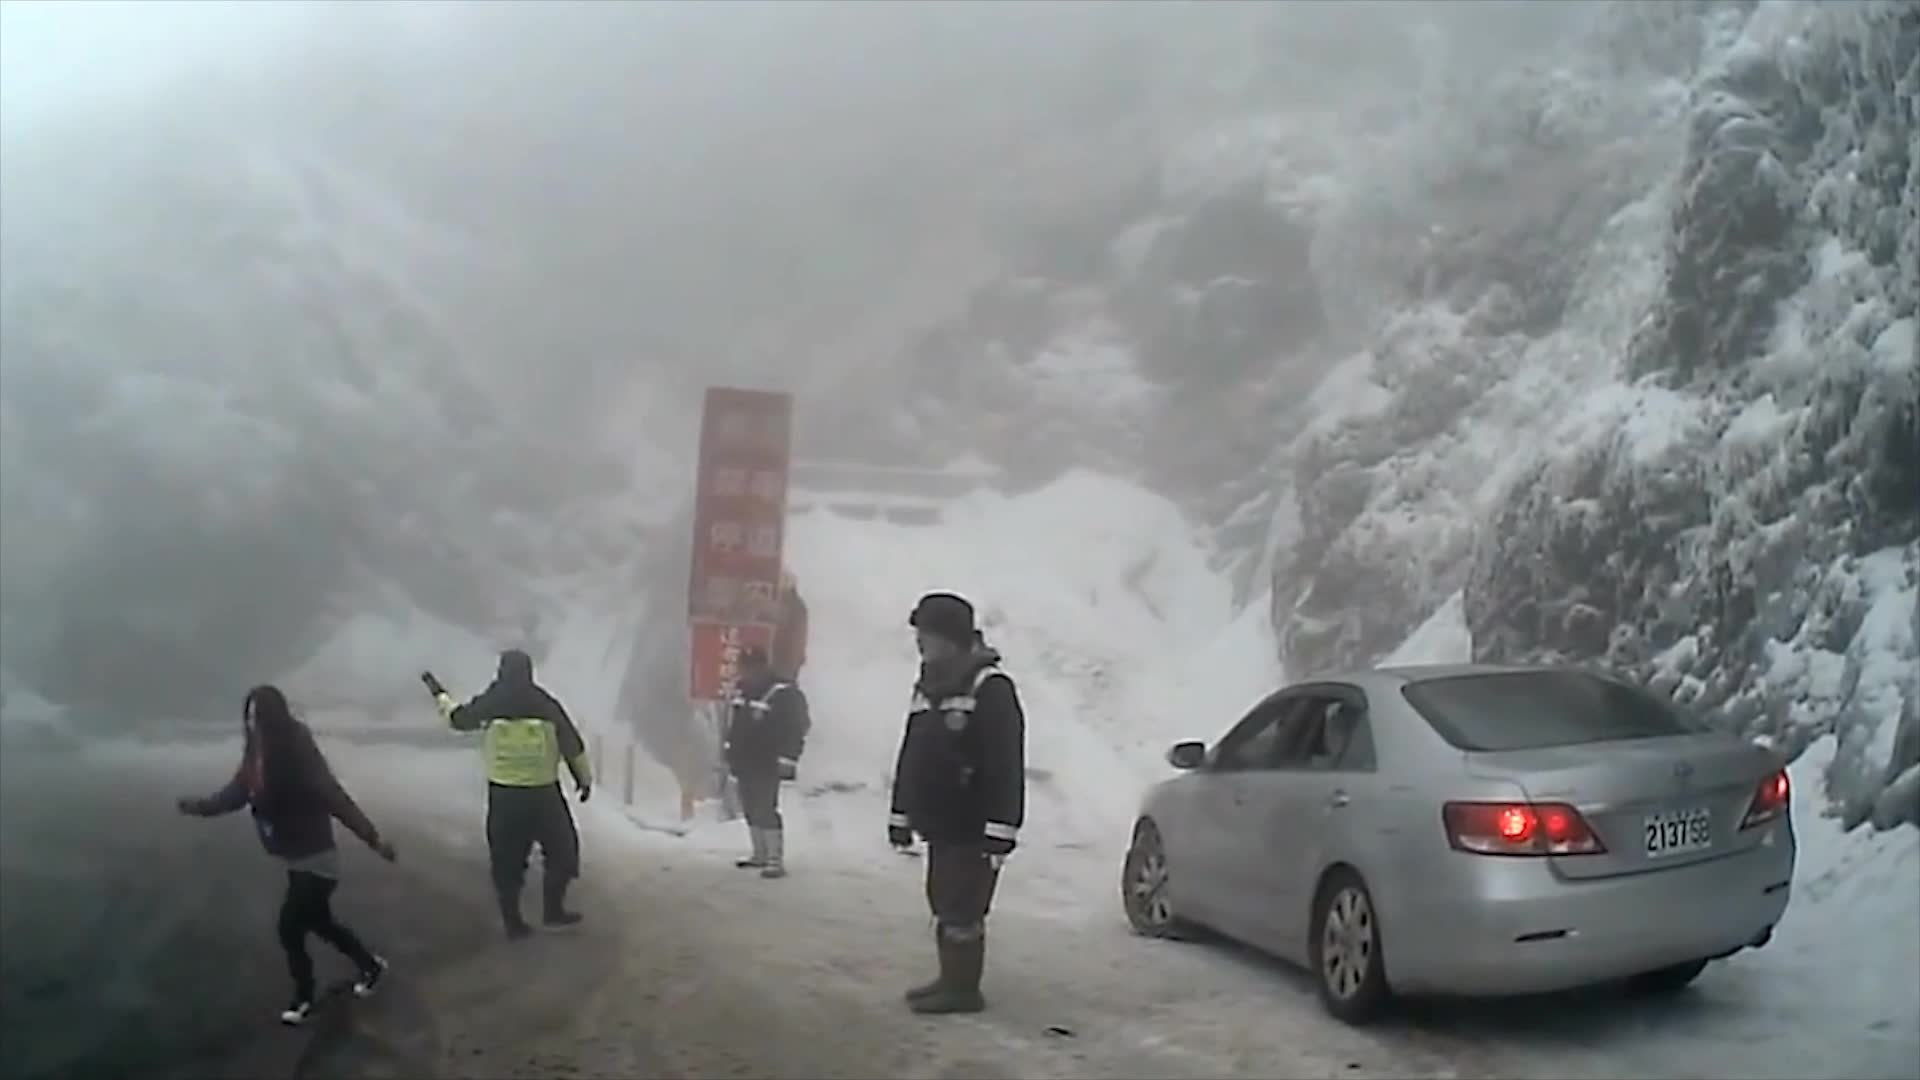pedestrian: (177, 687, 407, 1027), (878, 584, 1029, 1022), (423, 654, 593, 938), (722, 639, 813, 880), (745, 565, 811, 739)
vehicle: (1117, 660, 1797, 1020)
